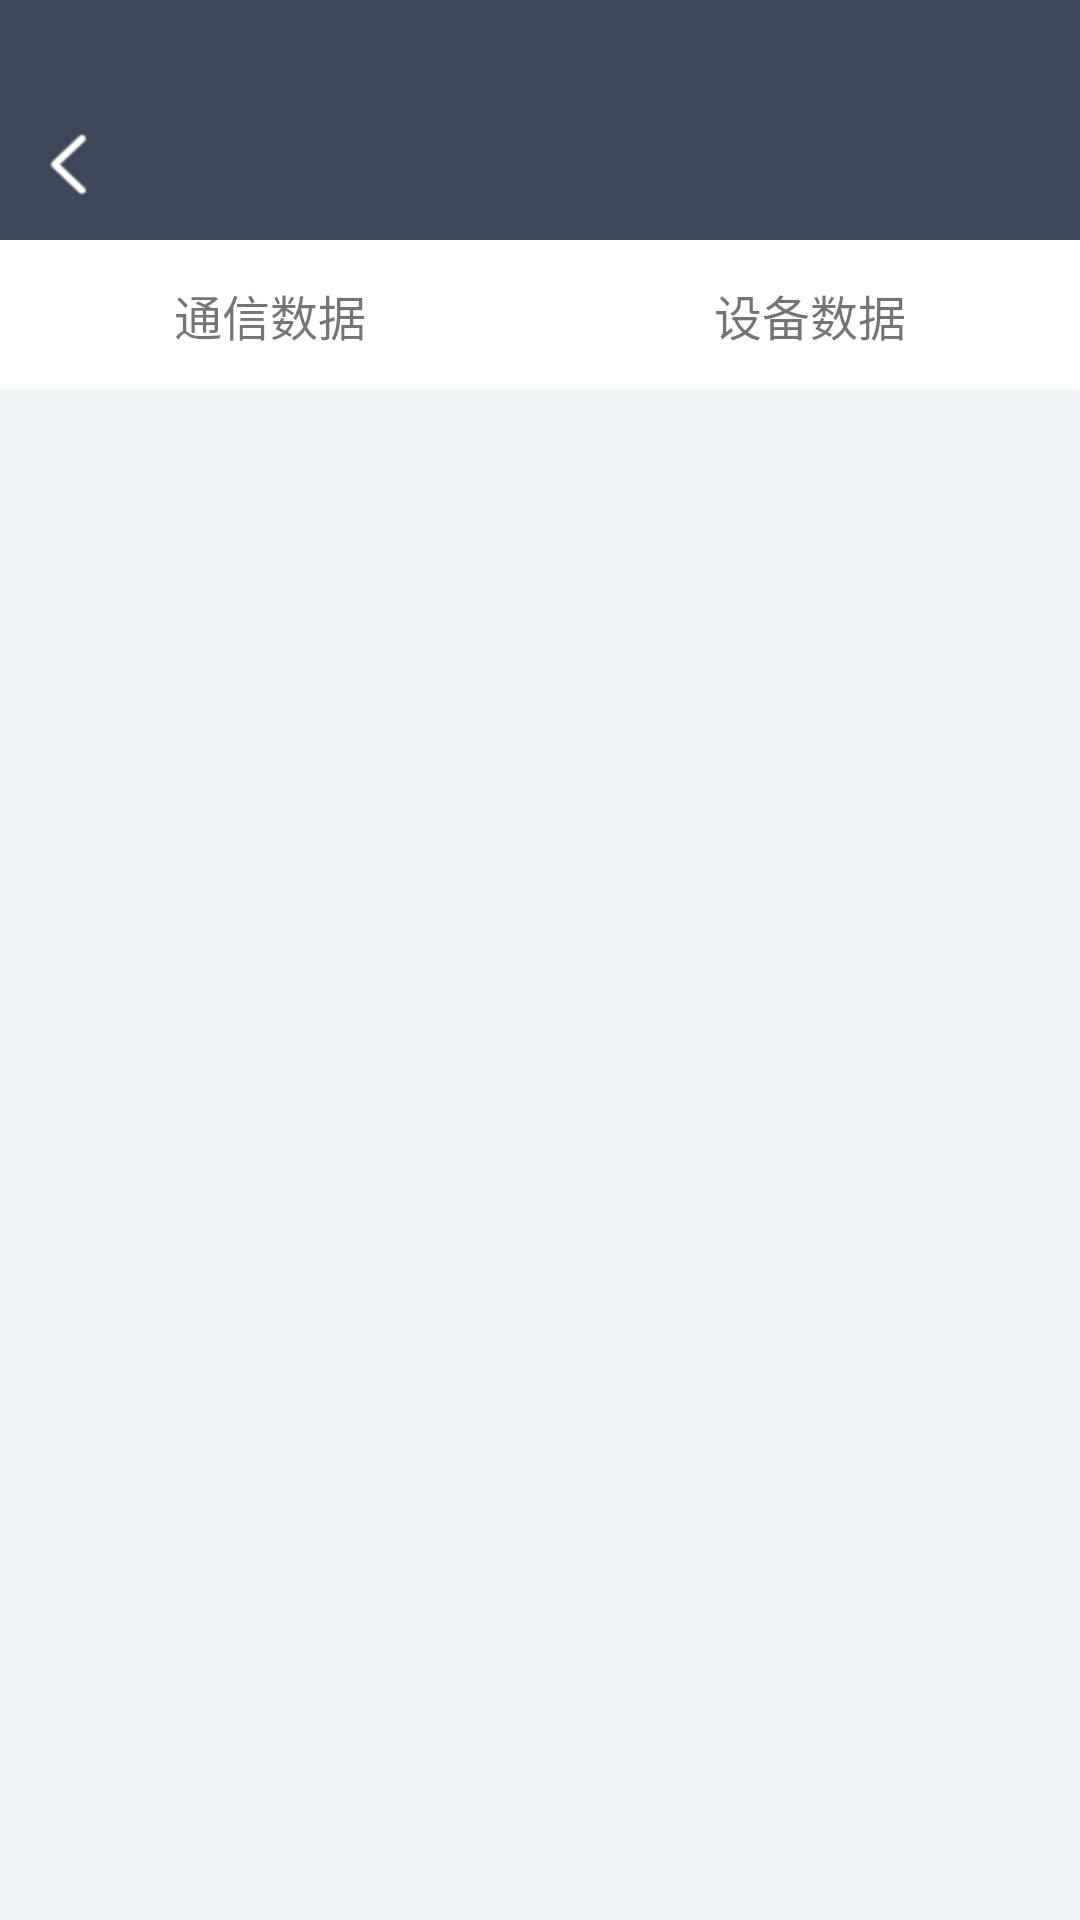

Where to tap for icons on this 1080 × 1920 app screen, as (x,y):
back: (68,164)
